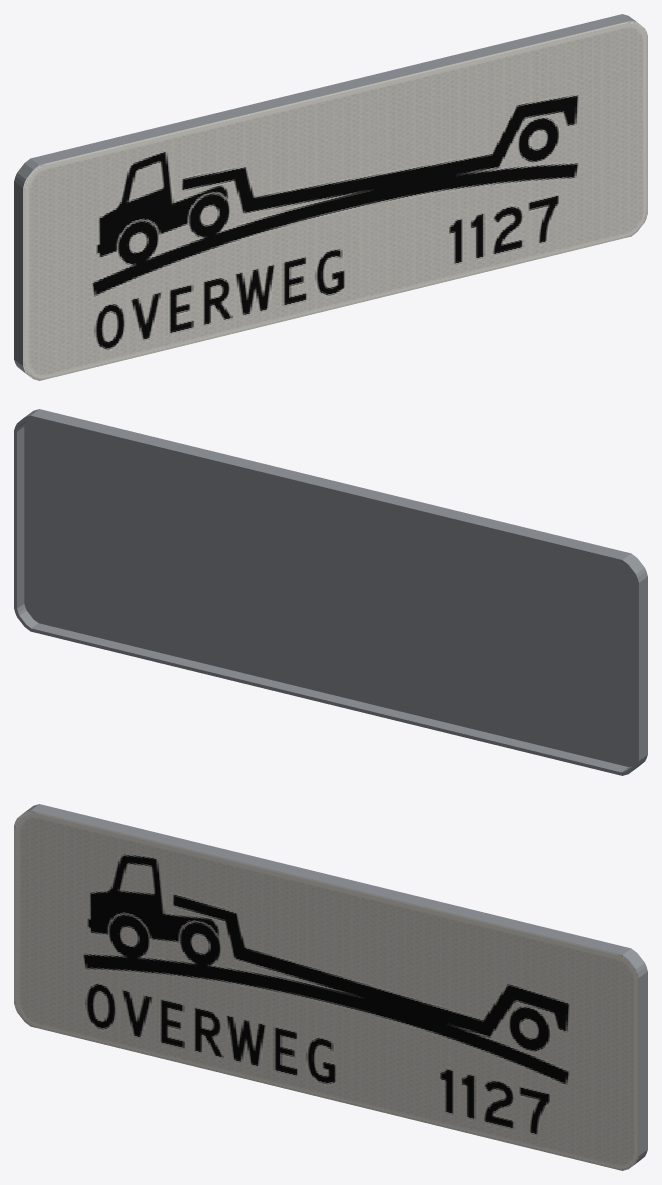
3 renders of one model, top to bottom at view 1: azimuth 30°, elevation 25°; view 2: azimuth 150°, elevation 25°; view 3: azimuth 330°, elevation 25°, orthographic.
Visible parts, largest first — view 1: cat_e7a6f6669ea95312; view 2: cat_e7a6f6669ea95312; view 3: cat_e7a6f6669ea95312.
Boxes of the visible parts, x1,y1,x2,y2 form: cat_e7a6f6669ea95312: [14, 14, 647, 380]; cat_e7a6f6669ea95312: [14, 409, 647, 775]; cat_e7a6f6669ea95312: [14, 804, 647, 1170].
Bounding box in the file's own units: 0.6 × 0.015 × 0.1981.
2 materials, 1 textured.
